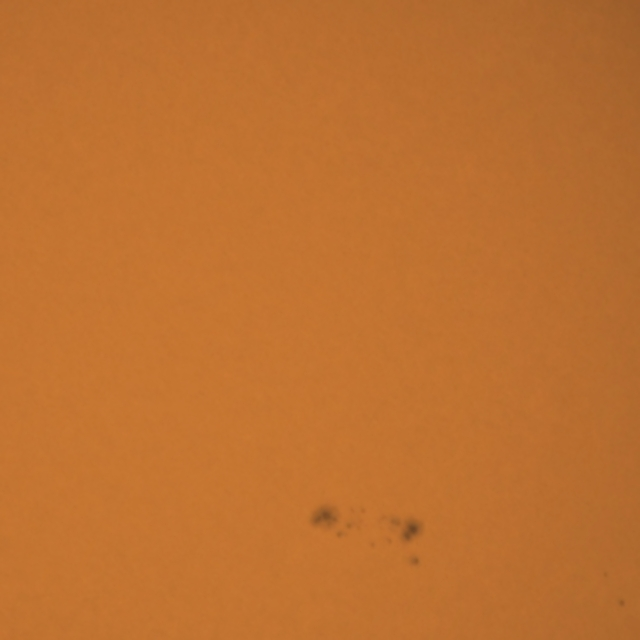sunspot: (309, 502, 367, 540), (369, 511, 424, 550), (407, 552, 422, 570), (617, 598, 627, 610), (602, 570, 610, 580)
